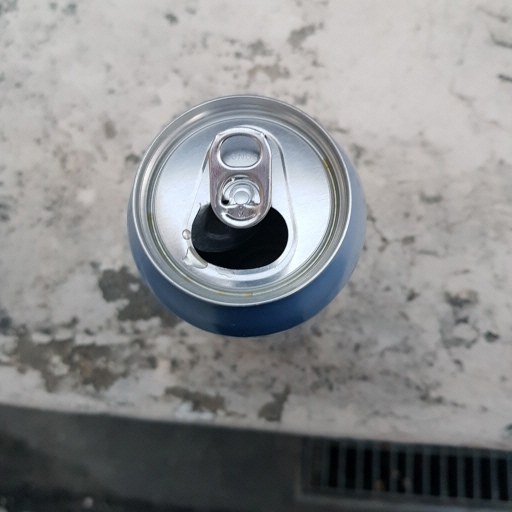Metal_0: (122, 94, 368, 340)
